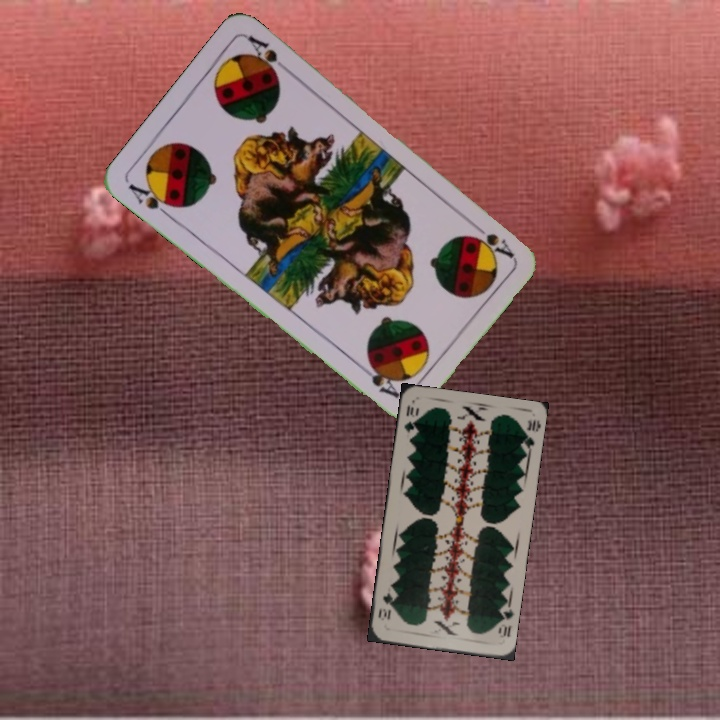G10: (494, 602, 516, 640), (400, 400, 421, 435)
SA: (124, 179, 181, 222), (466, 217, 516, 261)
